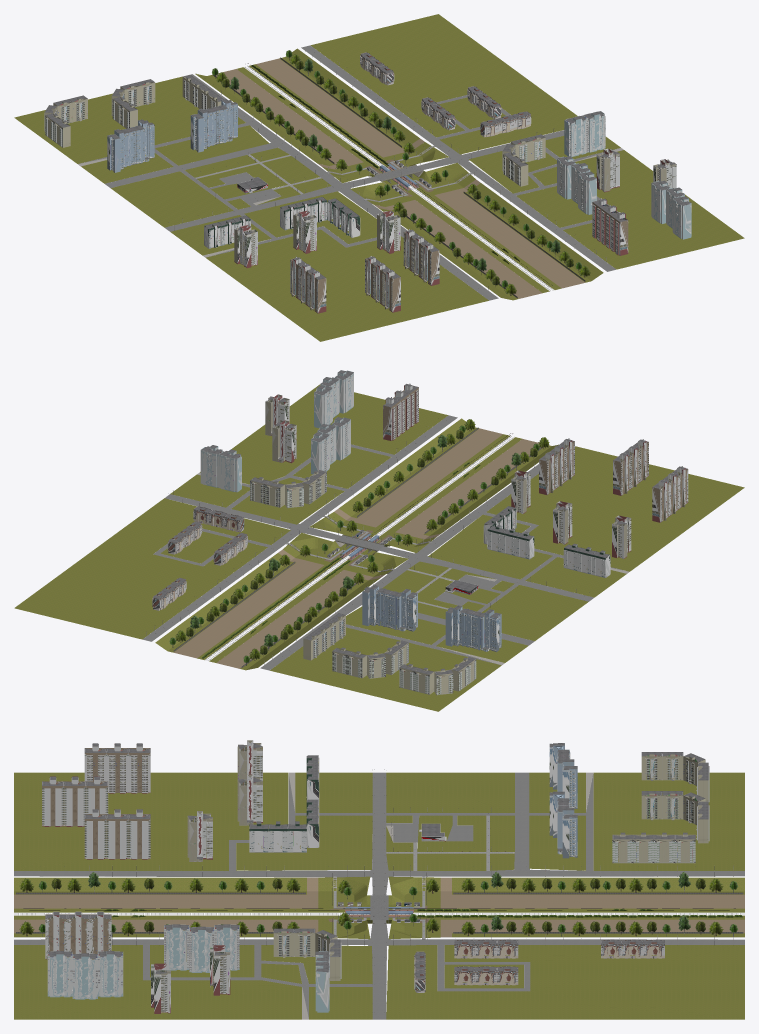
The model's file is tram-station.glb.
3 views of the same model, one above another, from view 1: azimuth 30°, elevation 25°; view 2: azimuth 150°, elevation 25°; view 3: azimuth 270°, elevation 25° (orthographic). The views are drawn at different scales.
Parts seen in each view (by area): view 1: PS3_Material_28, PS3_Material_41, PS3_Material_30, PS3_Material_20, PS3_Material_00, PS3_Material_06, PS3_Material_12, PS3_Material_15, PS3_Material_03, PS3_Material_09, PS3_Material_49, PS3_Material_51 (+6 smaller); view 2: PS3_Material_28, PS3_Material_41, PS3_Material_30, PS3_Material_00, PS3_Material_20, PS3_Material_06, PS3_Material_15, PS3_Material_12, PS3_Material_09, PS3_Material_03, PS3_Material_49, PS3_Material_51 (+5 smaller); view 3: PS3_Material_28, PS3_Material_41, PS3_Material_30, PS3_Material_20, PS3_Material_00, PS3_Material_06, PS3_Material_12, PS3_Material_03, PS3_Material_49, PS3_Material_09, PS3_Material_15, PS3_Material_40 (+14 smaller).
Boxes of the visible parts, x1=… form: PS3_Material_28: x1=14, y1=14, x2=744, y2=341; PS3_Material_41: x1=80, y1=45, x2=619, y2=300; PS3_Material_30: x1=216, y1=58, x2=585, y2=298; PS3_Material_20: x1=290, y1=198, x2=628, y2=313; PS3_Material_00: x1=44, y1=74, x2=545, y2=186; PS3_Material_06: x1=557, y1=111, x2=691, y2=239; PS3_Material_12: x1=234, y1=148, x2=676, y2=268; PS3_Material_15: x1=107, y1=99, x2=237, y2=172; PS3_Material_03: x1=360, y1=52, x2=531, y2=137; PS3_Material_09: x1=204, y1=197, x2=360, y2=248; PS3_Material_49: x1=216, y1=54, x2=590, y2=295; PS3_Material_51: x1=221, y1=60, x2=573, y2=286; PS3_Material_28: x1=14, y1=384, x2=744, y2=711; PS3_Material_41: x1=142, y1=415, x2=622, y2=670; PS3_Material_30: x1=174, y1=428, x2=540, y2=668; PS3_Material_00: x1=250, y1=470, x2=476, y2=695; PS3_Material_20: x1=383, y1=383, x2=688, y2=522; PS3_Material_06: x1=200, y1=370, x2=353, y2=492; PS3_Material_15: x1=362, y1=585, x2=501, y2=651; PS3_Material_12: x1=265, y1=394, x2=631, y2=558; PS3_Material_09: x1=483, y1=506, x2=610, y2=577; PS3_Material_03: x1=152, y1=506, x2=247, y2=610; PS3_Material_49: x1=175, y1=419, x2=549, y2=660; PS3_Material_51: x1=186, y1=429, x2=537, y2=656; PS3_Material_28: x1=14, y1=772, x2=744, y2=1019; PS3_Material_41: x1=14, y1=772, x2=744, y2=1019; PS3_Material_30: x1=14, y1=877, x2=744, y2=937; PS3_Material_20: x1=42, y1=743, x2=150, y2=959; PS3_Material_00: x1=273, y1=752, x2=709, y2=980; PS3_Material_06: x1=47, y1=924, x2=329, y2=1012; PS3_Material_12: x1=151, y1=740, x2=262, y2=1013; PS3_Material_03: x1=414, y1=939, x2=664, y2=992; PS3_Material_49: x1=19, y1=878, x2=723, y2=936; PS3_Material_09: x1=249, y1=755, x2=319, y2=852; PS3_Material_15: x1=549, y1=743, x2=577, y2=858; PS3_Material_40: x1=16, y1=892, x2=743, y2=933.
Bounding box in the file's own units: 668 × 66.09 × 835.
Materials: 42 (42 with a texture image).
